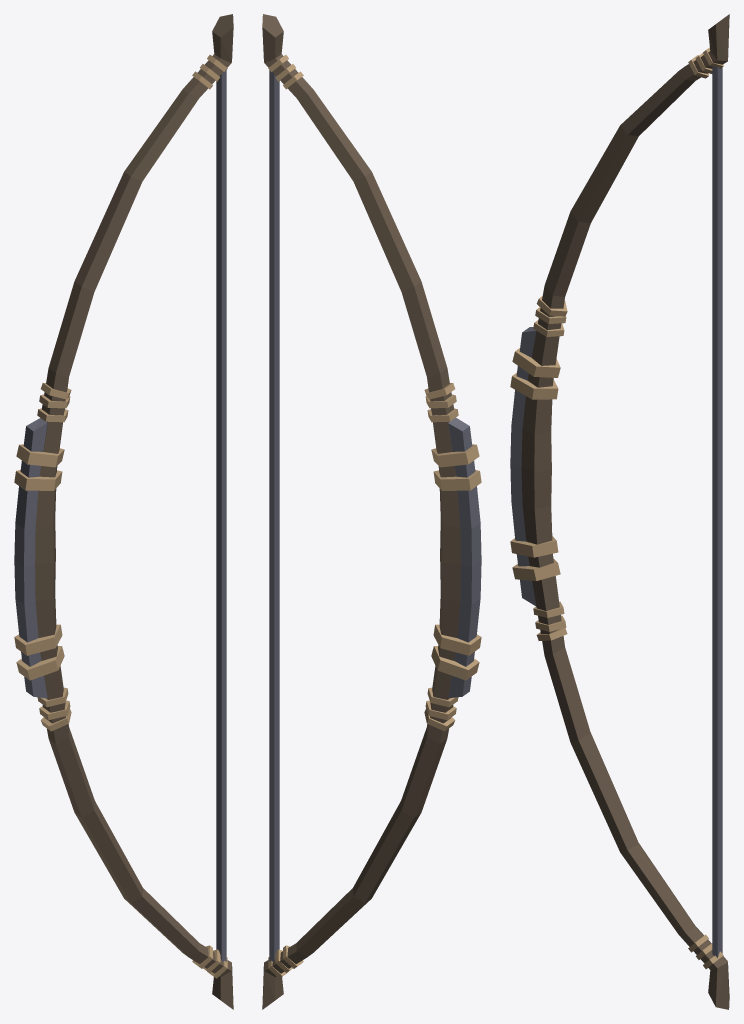
The model's file is _bow_13.fbx.
3 views of the same model, side by side, from view 1: azimuth 30°, elevation 25°; view 2: azimuth 150°, elevation 25°; view 3: azimuth 330°, elevation 25° (orthographic).
Visible parts, largest first — view 1: bow_13; view 2: bow_13; view 3: bow_13.
Boxes of the visible parts, x1=… form: bow_13: x1=14, y1=14, x2=233, y2=1009; bow_13: x1=262, y1=14, x2=481, y2=1009; bow_13: x1=510, y1=14, x2=729, y2=1009.
Size of the model in its own units: 21.67 by 96.4 by 3.13.
